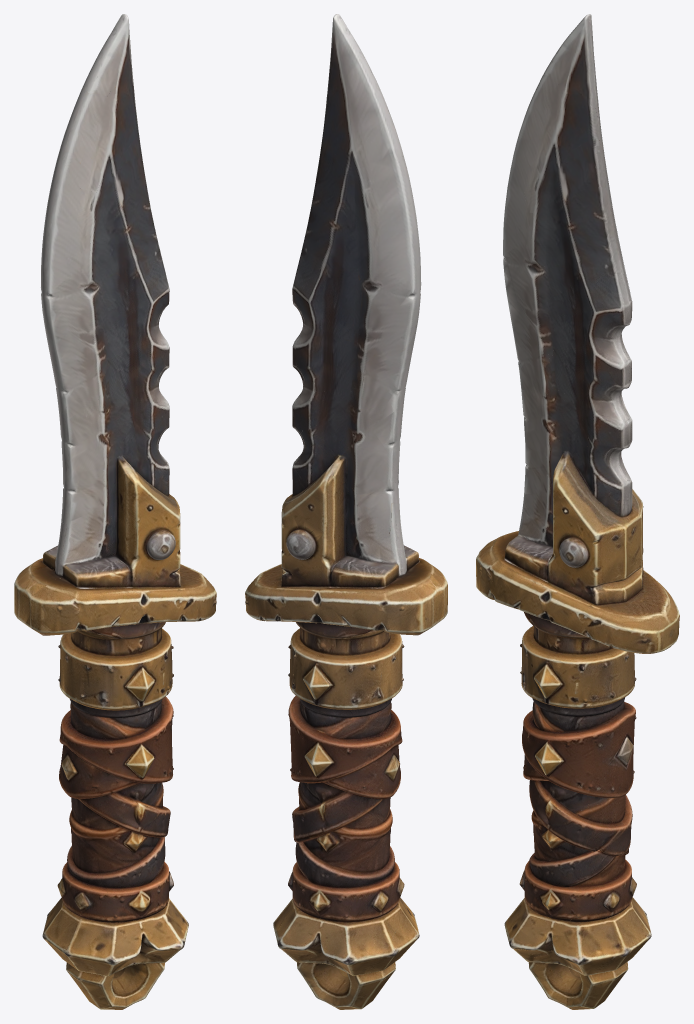
The model's file is equip_sera_dagger.glb.
3 views of the same model, side by side, from view 1: azimuth 30°, elevation 25°; view 2: azimuth 150°, elevation 25°; view 3: azimuth 330°, elevation 25° (orthographic).
Visible parts, largest first — view 1: Mesh_0; view 2: Mesh_0; view 3: Mesh_0.
Part boxes in pixels (left/top/right/bottom): Mesh_0: left=14, top=14, right=216, bottom=1009; Mesh_0: left=245, top=14, right=447, bottom=1009; Mesh_0: left=476, top=14, right=679, bottom=1009.
Size of the model in its own units: 0.3697 by 1.9 by 0.2401.
Materials: 1 (1 with a texture image).
